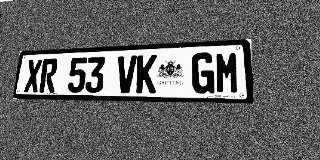3: (85, 57, 105, 93)
5: (67, 57, 87, 93)
G: (191, 52, 215, 94)
K: (136, 54, 157, 93)
M: (215, 51, 240, 94)
R: (39, 58, 58, 92)
V: (116, 55, 137, 93)
X: (24, 59, 43, 92)
